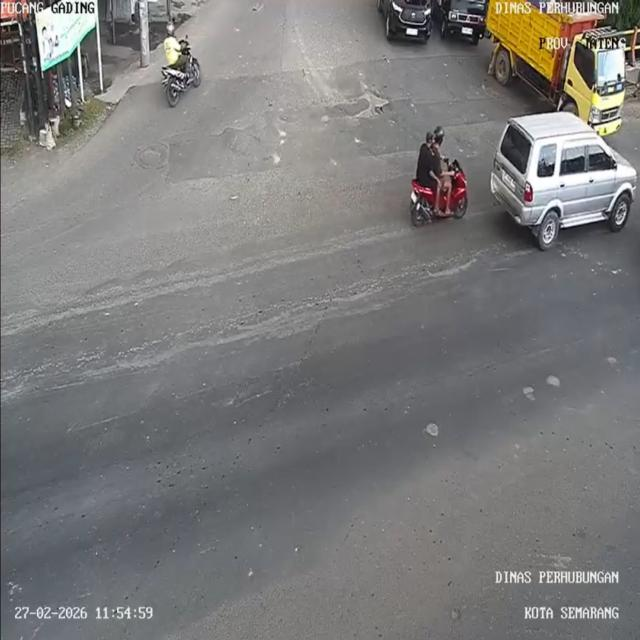motorcycle: (404, 158, 472, 225), (160, 51, 205, 107)
person: (409, 128, 435, 188), (162, 19, 188, 66), (430, 128, 449, 184)
rider_region: (402, 124, 470, 227), (160, 19, 203, 108)
